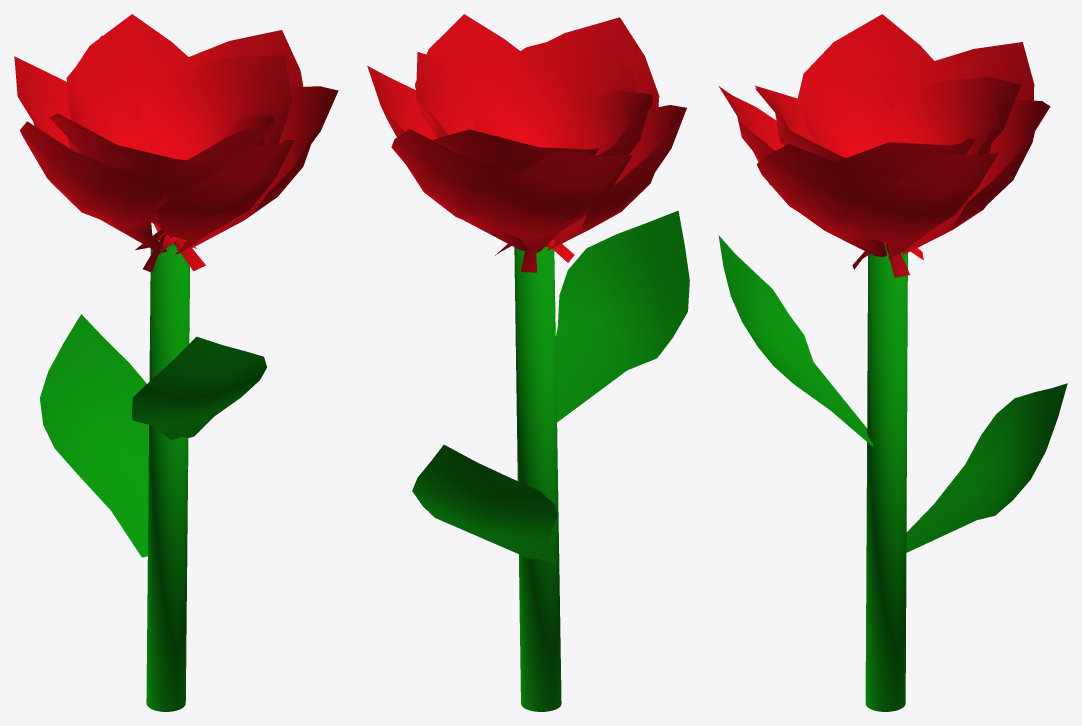
The model's file is Flower.fbx.
3 renders of one model, left to right at view 1: azimuth 30°, elevation 25°; view 2: azimuth 150°, elevation 25°; view 3: azimuth 270°, elevation 25°, orthographic.
Visible parts, largest first — view 1: Flower, Flower.001, FlowerStalk, Leaf1, Leaf2; view 2: Flower.001, Flower, Leaf2, FlowerStalk, Leaf1; view 3: Flower.001, Flower, FlowerStalk, Leaf1, Leaf2.
Boxes of the visible parts, left/top/right/bottom form: Flower: left=49, top=35, right=292, bottom=272; Flower.001: left=14, top=14, right=338, bottom=254; FlowerStalk: left=146, top=243, right=189, bottom=711; Leaf1: left=39, top=314, right=148, bottom=557; Leaf2: left=132, top=336, right=266, bottom=439; Flower.001: left=367, top=14, right=686, bottom=252; Flower: left=416, top=29, right=652, bottom=272; Leaf2: left=555, top=210, right=689, bottom=422; FlowerStalk: left=514, top=246, right=561, bottom=711; Leaf1: left=412, top=445, right=557, bottom=562; Flower.001: left=718, top=14, right=1050, bottom=258; Flower: left=755, top=29, right=1021, bottom=277; FlowerStalk: left=865, top=245, right=907, bottom=711; Leaf1: left=906, top=383, right=1067, bottom=552; Leaf2: left=718, top=235, right=873, bottom=446.
Bounding box in the file's own units: 76.34 × 158 × 80.77.
